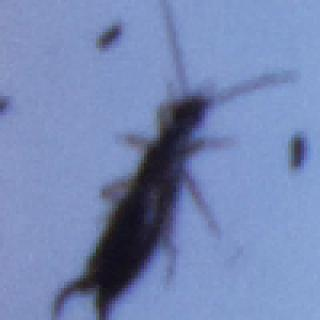earwig: (50, 0, 301, 320)
